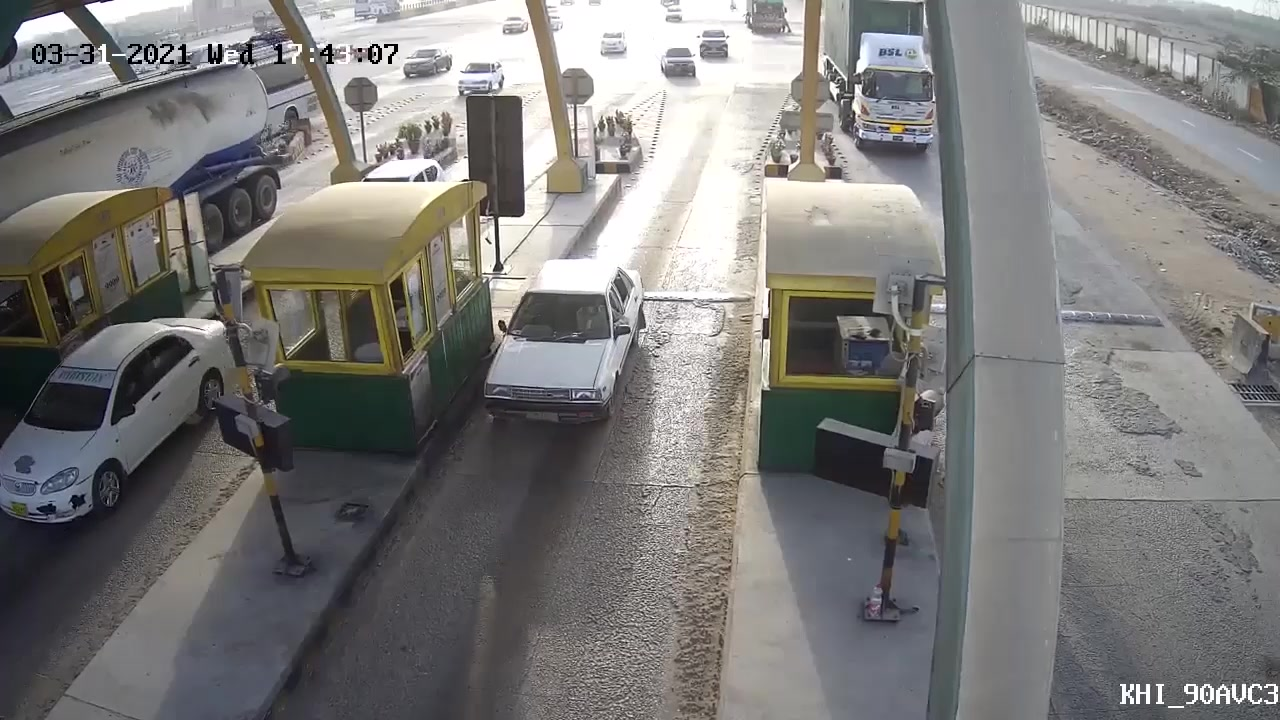F1: (482, 256, 643, 422)
